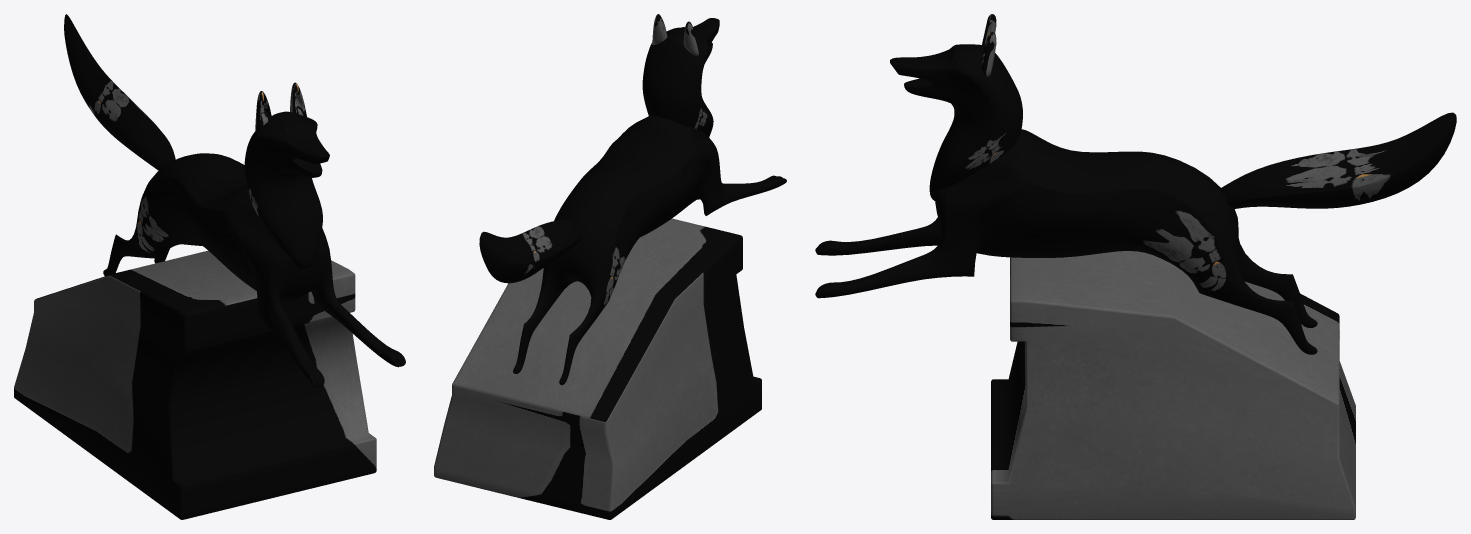
Rendered from fox.fbx.
The picture shows the model from 3 angles, left to right: view 1: azimuth 30°, elevation 25°; view 2: azimuth 150°, elevation 25°; view 3: azimuth 270°, elevation 25°; orthographic projection. The views are drawn at different scales.
Visible parts, largest first — view 1: fox; view 2: fox; view 3: fox.
Part boxes in pixels (left/top/right/bottom): fox: left=14, top=14, right=405, bottom=519; fox: left=434, top=14, right=786, bottom=519; fox: left=815, top=14, right=1456, bottom=519.
Size of the model in its own units: 140 by 279 by 363.
Materials: 2 (2 with a texture image).
